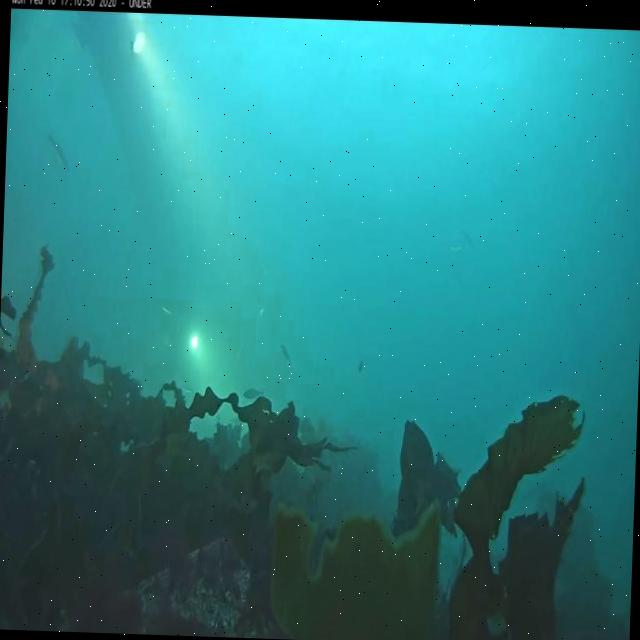fish: (44, 132, 70, 177), (242, 384, 264, 402), (278, 342, 290, 364)
